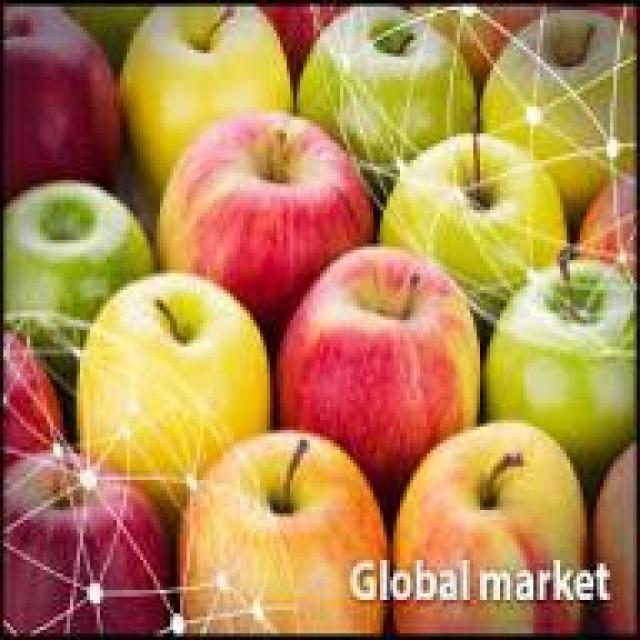apple: (150, 104, 380, 324), (293, 247, 497, 463), (393, 420, 597, 627), (177, 430, 380, 637), (83, 263, 260, 480), (123, 10, 300, 180), (16, 436, 160, 640), (394, 130, 564, 300), (486, 267, 636, 443), (317, 7, 473, 173), (3, 7, 130, 173)
